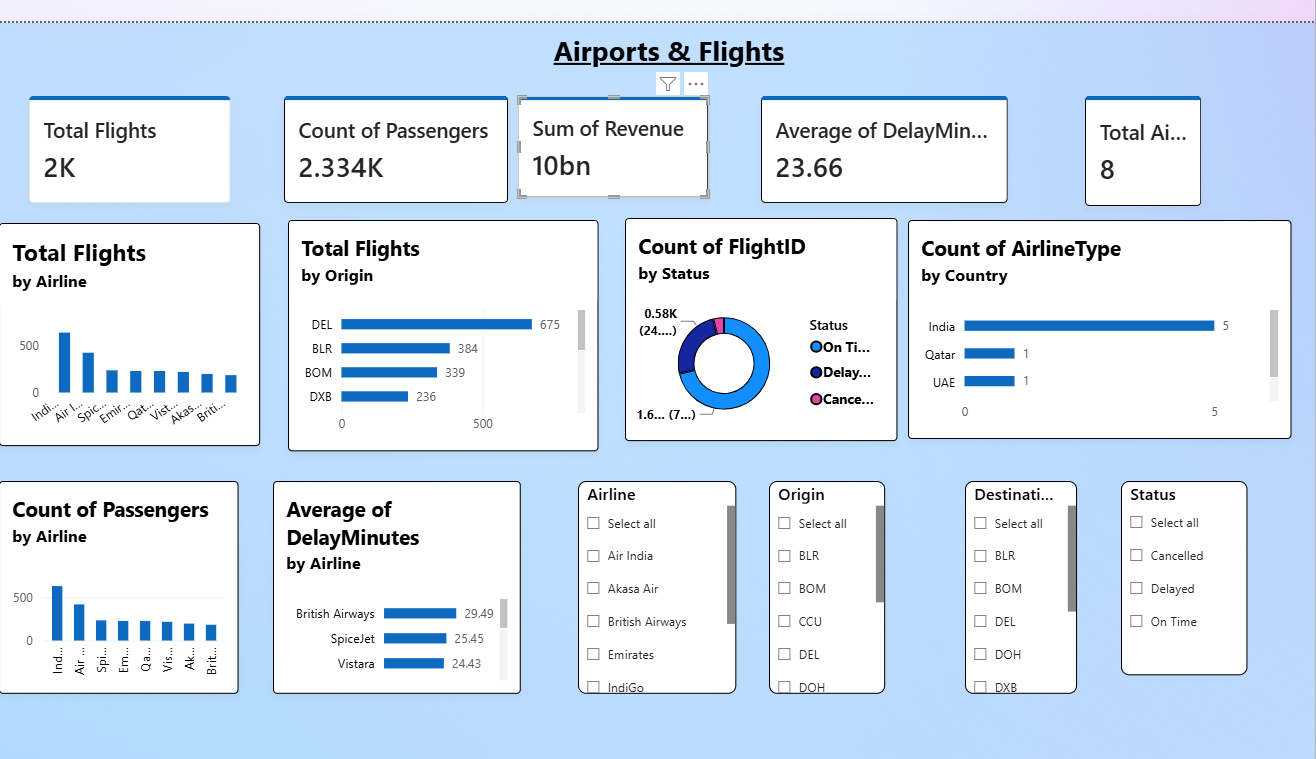

The page's visual inventory and layout, read from the dashboard file:
{"tool":"powerbi","page":{"name":"Page 1","canvas":[1280,720],"ordinal":0},"visuals":[{"type":"cardVisual","fields":{"Data":["DimAirline.Total Airline"]},"box":[1056.3,71,113.8,108],"z":1000},{"type":"cardVisual","fields":{"Data":["Avg(FactFlights.DelayMinutes)"]},"box":[741.2,71,240.2,104.1],"z":2000},{"type":"cardVisual","fields":{"Data":["Sum(FactFlights.Revenue)"]},"box":[504.8,71,185.8,99.2],"z":3000},{"type":"cardVisual","fields":{"Data":["CountNonNull(FactFlights.Passengers)"]},"box":[277.2,71,218.8,104.1],"z":4000},{"type":"textbox","box":[309.3,7.8,684.7,63.2],"z":5000},{"type":"columnChart","fields":{"Category":["DimAirline.Airline"],"Y":["FactFlights.Total Flights"]},"box":[0,194.5,253.9,216.9],"z":6000},{"type":"barChart","fields":{"Y":["FactFlights.Total Flights"],"Category":["FactFlights.Origin"]},"box":[281.1,191.6,302.5,224.7],"z":7000},{"type":"donutChart","fields":{"Y":["CountNonNull(FactFlights.FlightID)"],"Category":["FactFlights.Status"]},"box":[608.9,189.7,264.6,216.9],"z":8000},{"type":"barChart","fields":{"Category":["DimAirline.Country"],"Y":["CountNonNull(DimAirline.AirlineType)"]},"box":[884.1,191.6,372.5,213],"z":9000},{"type":"columnChart","fields":{"Y":["CountNonNull(FactFlights.Passengers)"],"Category":["FactFlights.Airline"]},"box":[0,445.5,233.4,207.2],"z":10000},{"type":"barChart","fields":{"Category":["FactFlights.Airline"],"Y":["Avg(FactFlights.DelayMinutes)"]},"box":[266.5,445.5,241.2,207.2],"z":11000},{"type":"slicer","fields":{"Values":["FactFlights.Airline"]},"box":[563.2,445.5,153.7,207.2],"z":12000},{"type":"slicer","fields":{"Values":["FactFlights.Origin"]},"box":[748.9,445.5,112.8,207.2],"z":13000},{"type":"slicer","fields":{"Values":["FactFlights.Destination"]},"box":[939.6,445.5,108.9,207.2],"z":14000},{"type":"slicer","fields":{"Values":["FactFlights.Status"]},"box":[1091.3,445.5,122.6,188.7],"z":15000},{"type":"cardVisual","fields":{"Data":["FactFlights.Total Flights"]},"box":[29.2,71,196.5,104.1],"z":15001}]}

Visuals, with their boxes in screenshot pixels (x1, y1, x2, y2), scaled from the page's 1280x720 canvas onto the 1316x759 screenshot:
cardVisual - DimAirline.Total Airline: <bbox>1086, 75, 1203, 189</bbox>
cardVisual - Avg(FactFlights.DelayMinutes): <bbox>762, 75, 1009, 185</bbox>
cardVisual - Sum(FactFlights.Revenue): <bbox>519, 75, 710, 179</bbox>
cardVisual - CountNonNull(FactFlights.Passengers): <bbox>285, 75, 510, 185</bbox>
textbox: <bbox>318, 8, 1022, 75</bbox>
columnChart - DimAirline.Airline x FactFlights.Total Flights: <bbox>0, 205, 261, 434</bbox>
barChart - FactFlights.Total Flights x FactFlights.Origin: <bbox>289, 202, 600, 439</bbox>
donutChart - CountNonNull(FactFlights.FlightID) x FactFlights.Status: <bbox>626, 200, 898, 429</bbox>
barChart - DimAirline.Country x CountNonNull(DimAirline.AirlineType): <bbox>909, 202, 1292, 427</bbox>
columnChart - CountNonNull(FactFlights.Passengers) x FactFlights.Airline: <bbox>0, 470, 240, 688</bbox>
barChart - FactFlights.Airline x Avg(FactFlights.DelayMinutes): <bbox>274, 470, 522, 688</bbox>
slicer - FactFlights.Airline: <bbox>579, 470, 737, 688</bbox>
slicer - FactFlights.Origin: <bbox>770, 470, 886, 688</bbox>
slicer - FactFlights.Destination: <bbox>966, 470, 1078, 688</bbox>
slicer - FactFlights.Status: <bbox>1122, 470, 1248, 669</bbox>
cardVisual - FactFlights.Total Flights: <bbox>30, 75, 232, 185</bbox>
